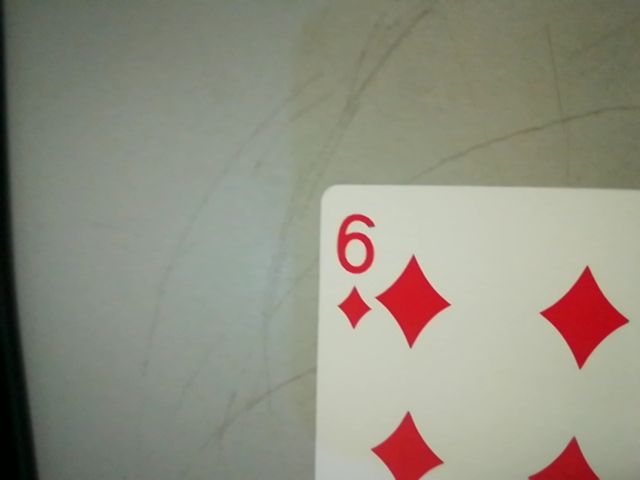fk 6: (323, 204, 385, 333)
